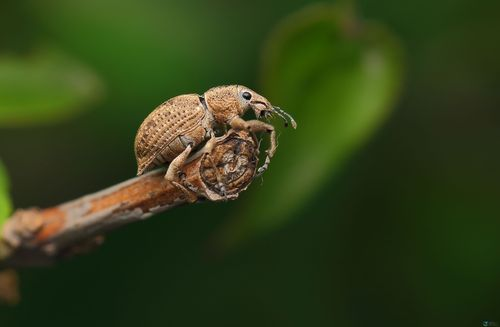Curculionidae: (133, 84, 298, 205)
